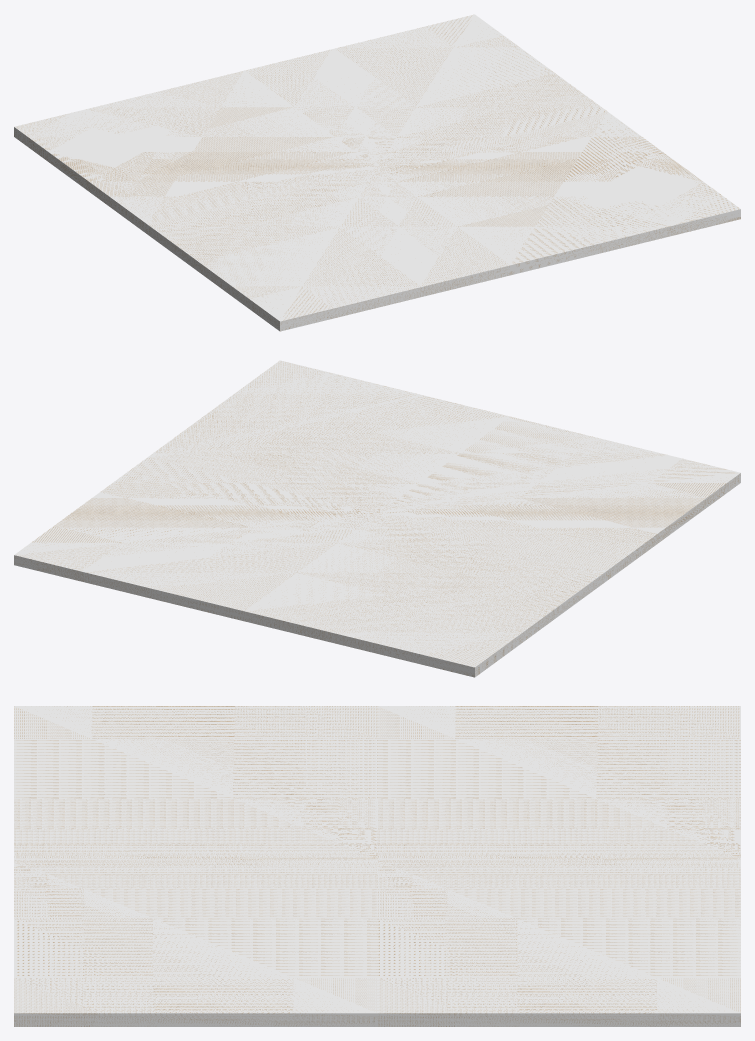
The picture shows the model from 3 angles, top to bottom: view 1: azimuth 30°, elevation 25°; view 2: azimuth 150°, elevation 25°; view 3: azimuth 270°, elevation 25°; orthographic projection. The views are drawn at different scales.
Parts seen in each view (by area): view 1: Tile (×7); view 2: Tile (×7); view 3: Tile (×6).
Part boxes in pixels (x1=…): Tile (×7): x1=14, y1=14, x2=740, y2=331; Tile (×7): x1=14, y1=360, x2=740, y2=677; Tile (×6): x1=14, y1=706, x2=740, y2=1026.
Bounding box in the file's own units: 24 × 24 × 0.5.
2 materials, 1 textured.
